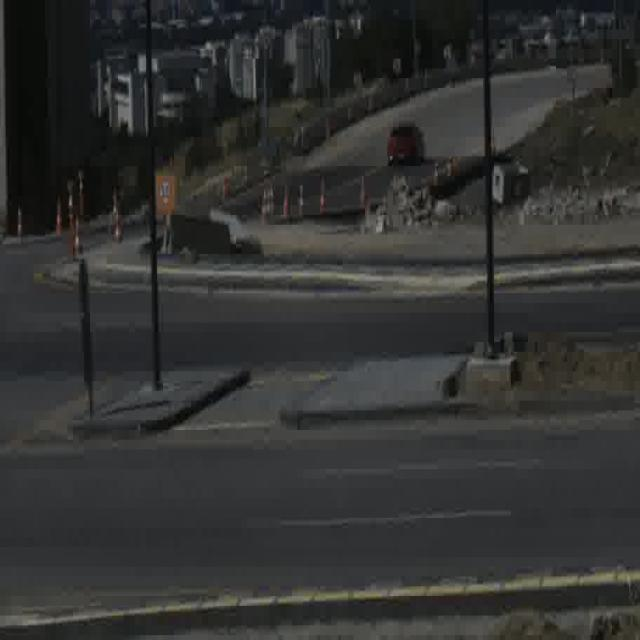Car: (385, 121, 425, 167)
